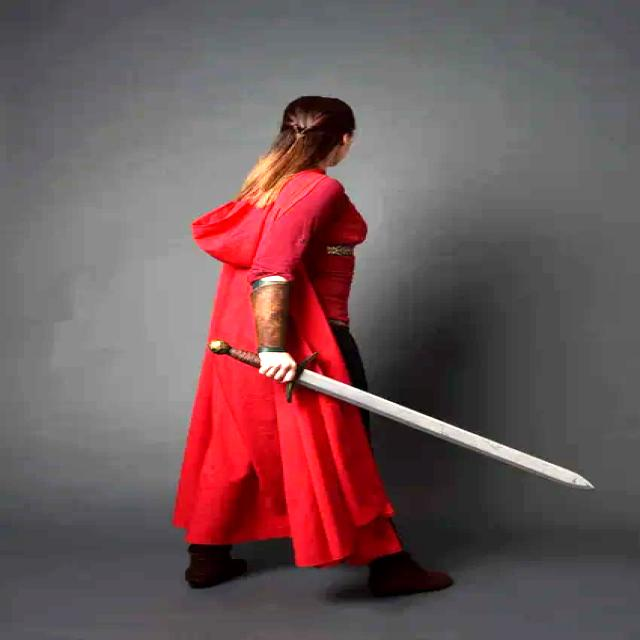long sword: (196, 329, 598, 497)
